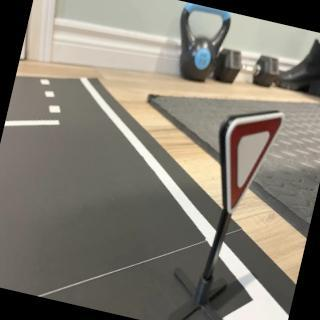sign_yield: (202, 101, 285, 221)
